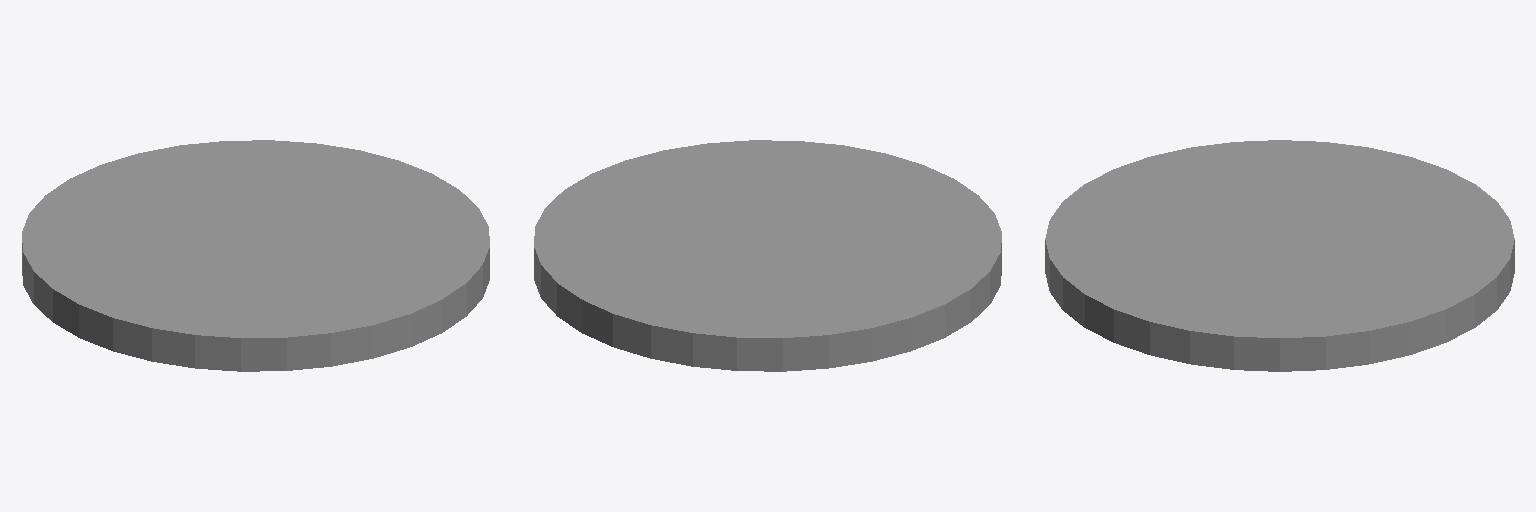
File: cf_tr_cir.obj
3 views of the same model, side by side, from view 1: azimuth 30°, elevation 25°; view 2: azimuth 150°, elevation 25°; view 3: azimuth 270°, elevation 25° (orthographic).
Visible parts, largest first — view 1: Cylinder; view 2: Cylinder; view 3: Cylinder.
Boxes of the visible parts, <box> form: Cylinder: <box>22,140,489,371</box>; Cylinder: <box>534,140,1001,371</box>; Cylinder: <box>1045,140,1514,371</box>.
Bounding box in the file's own units: 4.39 × 0.3458 × 4.39.